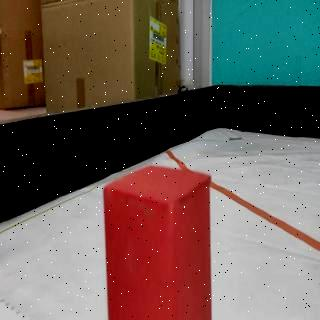redbox: (103, 164, 211, 320)
